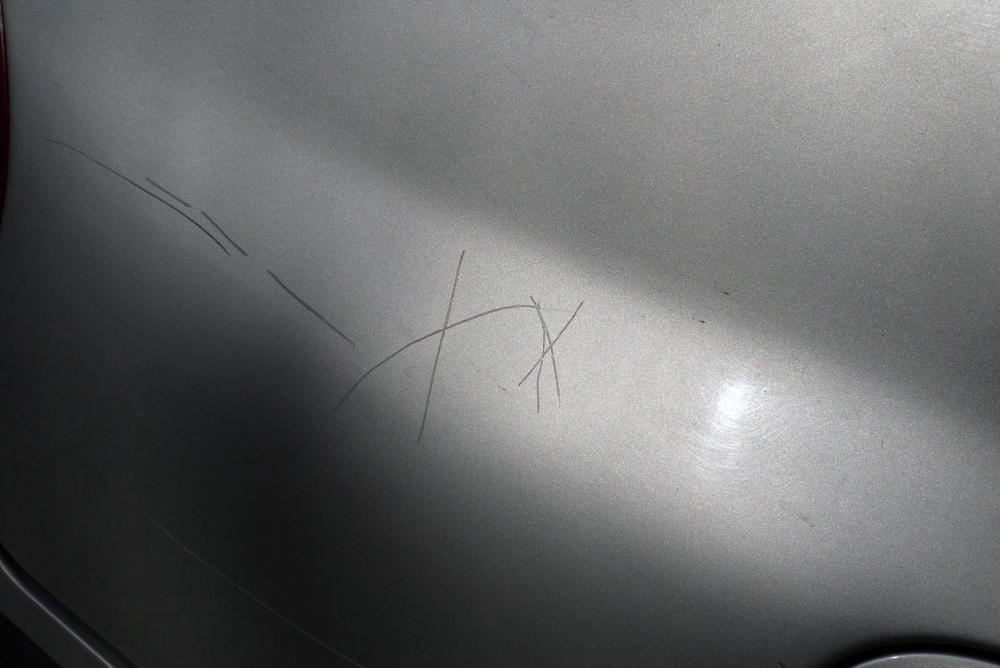scratch: (45, 138, 588, 456)
